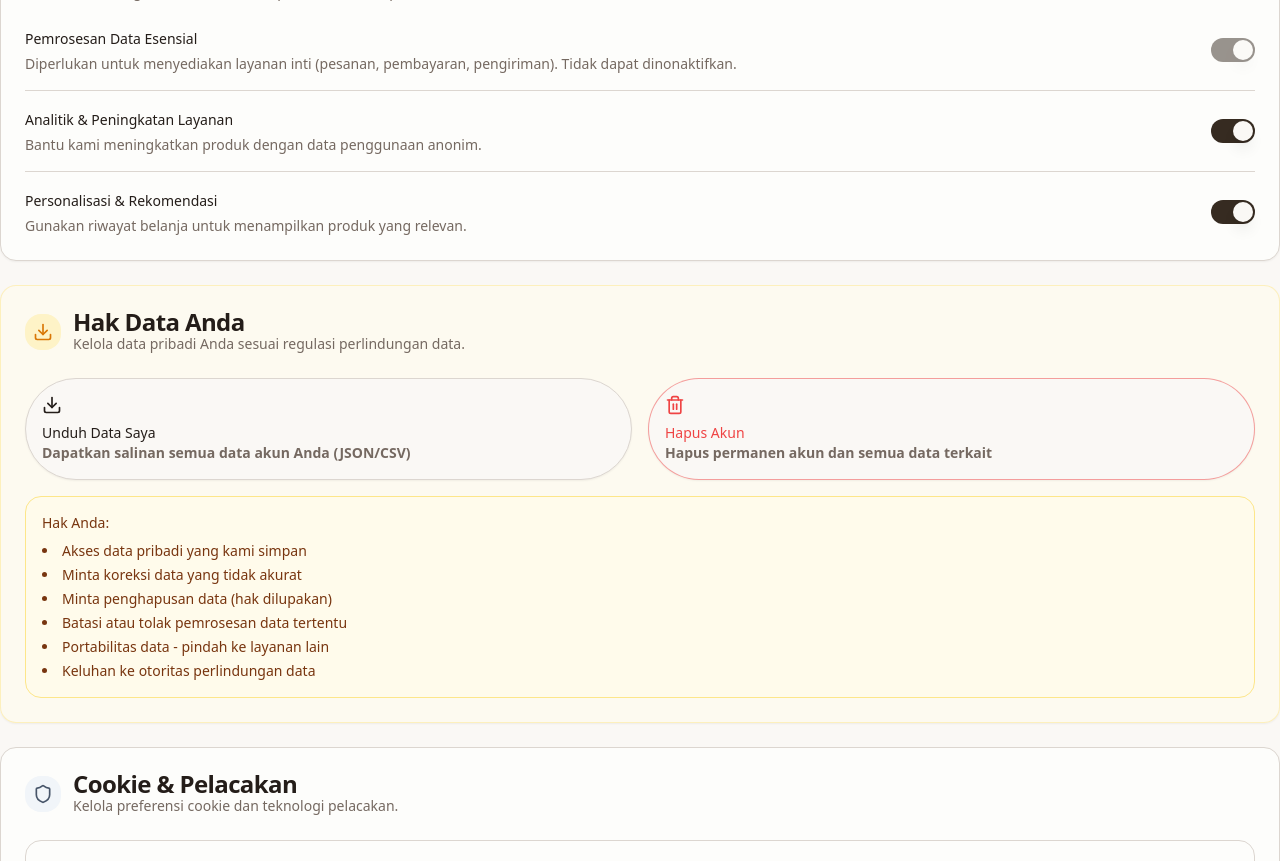
Scenario: PrivacyPage › shows delete account confirmation dialog
(page scrolled)
Click the button "Hapus Akun Hapus permanen akun dan semua data terkait" at (705, 432), box [648,378,1255,480]
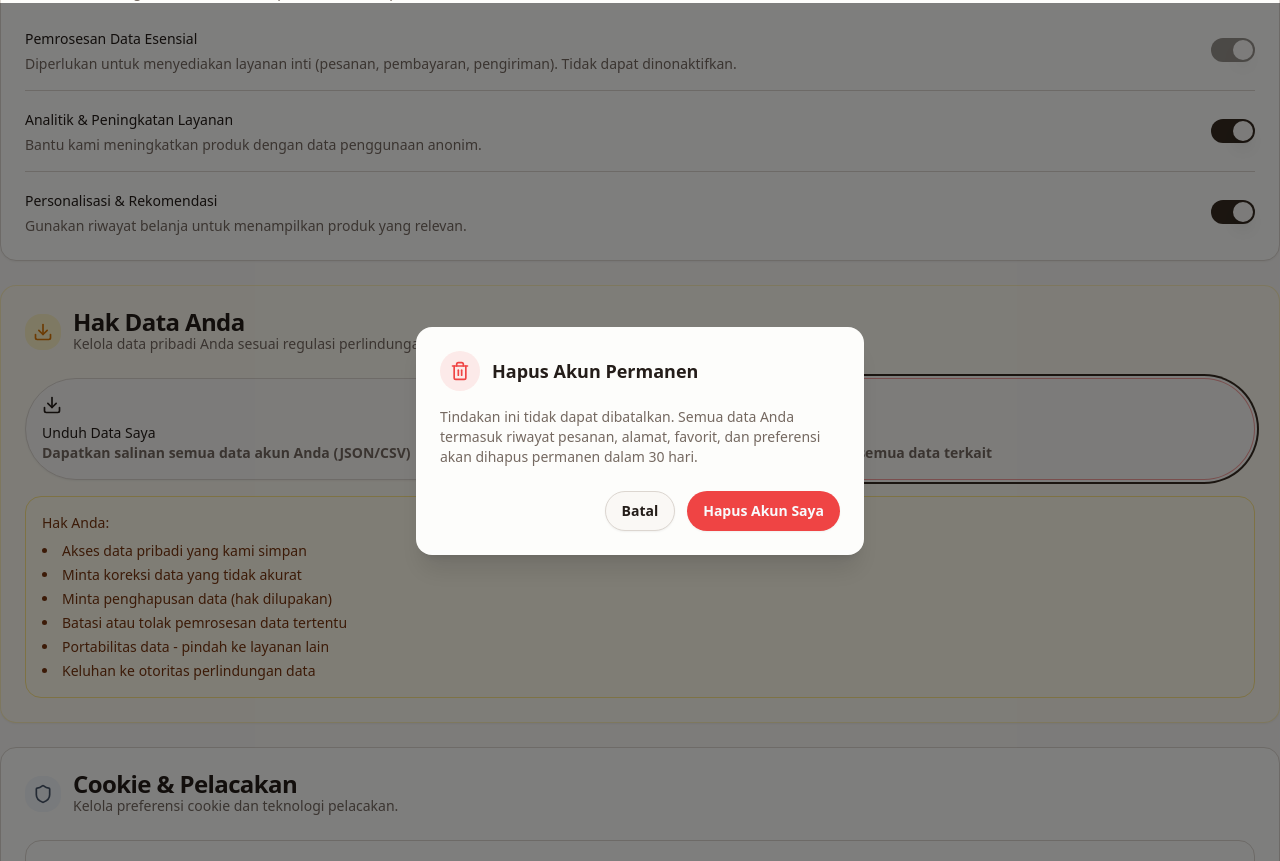
Check: the heading "Hapus Akun Permanen" is shown, box [492,357,698,385]
Check: the text "tidak dapat dibatalkan" is shown, box [440,407,820,466]
Check: the button "Batal" is shown, box [604,491,675,531]
